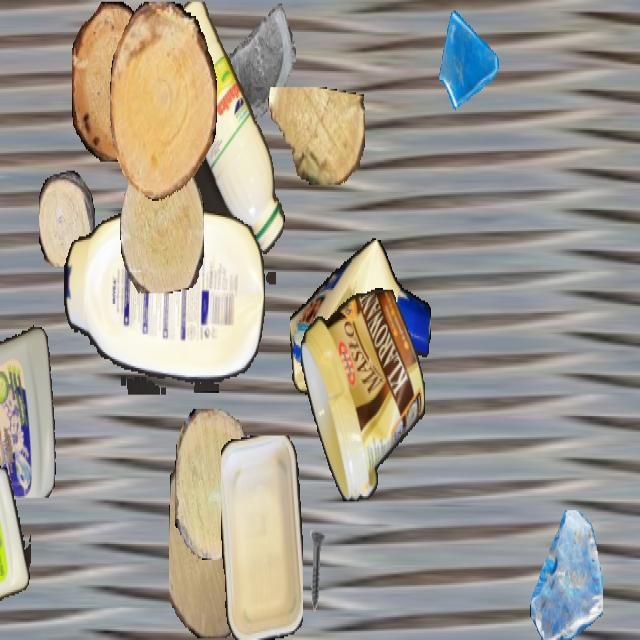glass: (530, 510, 602, 638), (224, 2, 296, 130), (437, 1, 501, 116)
metal: (234, 439, 294, 546), (292, 528, 340, 613)
plastic: (64, 210, 264, 394), (156, 1, 286, 282), (300, 288, 424, 501), (290, 237, 430, 407), (221, 436, 303, 638), (0, 313, 59, 498), (0, 457, 31, 638)
wood: (110, 2, 216, 201), (169, 439, 257, 638), (72, 2, 154, 162), (120, 150, 204, 292), (175, 409, 255, 558), (267, 87, 365, 183), (39, 170, 95, 266)
